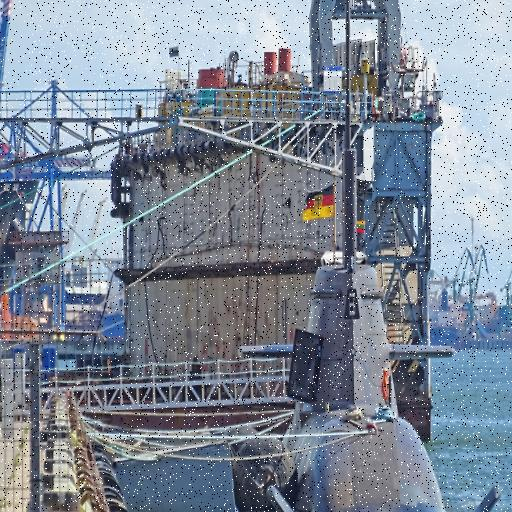submarine: (235, 1, 512, 512)
